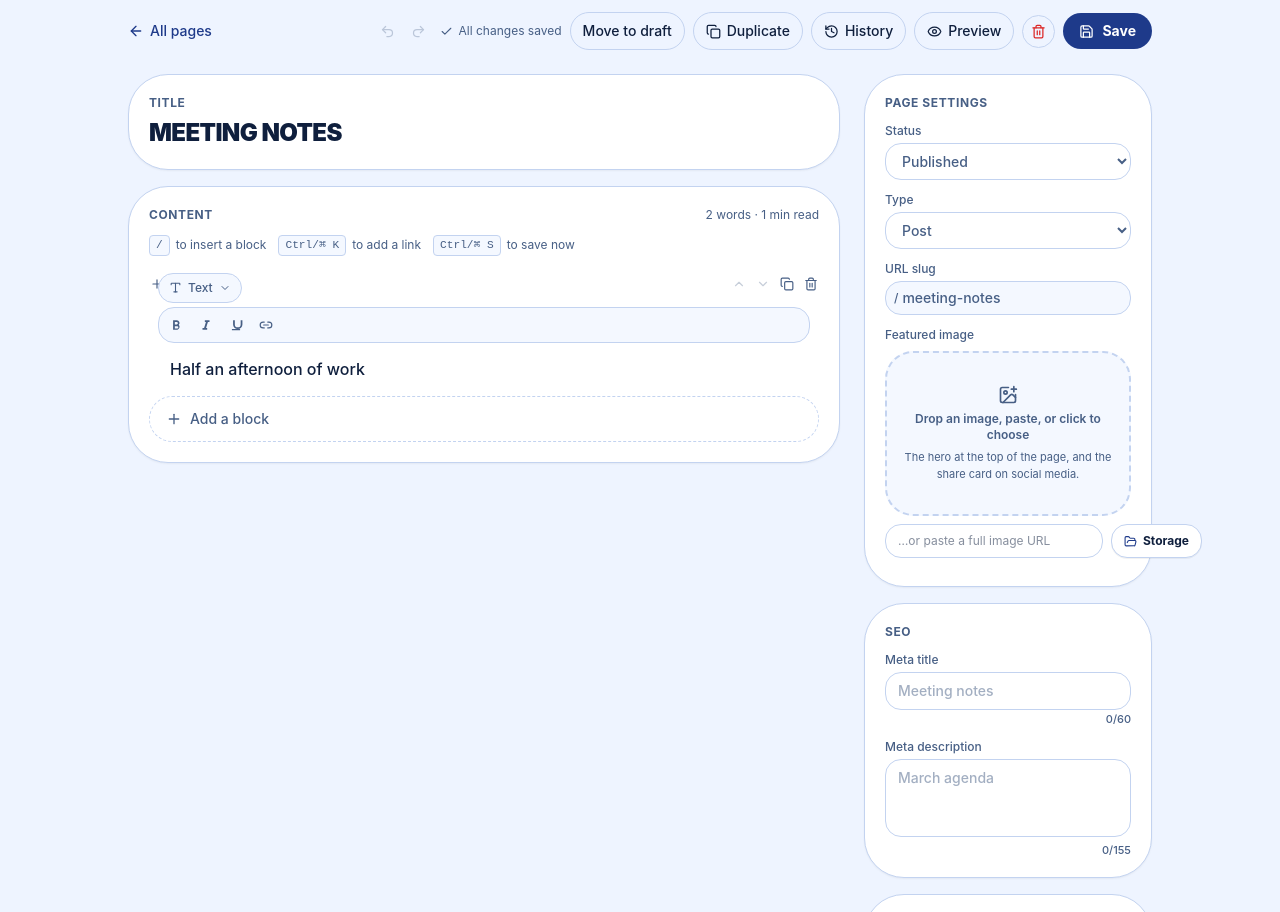
it: The editor cannot silently lose, unpublish, or misreport a page › says the change was not saved, and to copy the text before reloading
The width and height of the screenshot is (1280, 912).
Clear the field labelled "Half an afternoon of work": (267,369) [170, 359, 365, 379]
Wait 200 ms
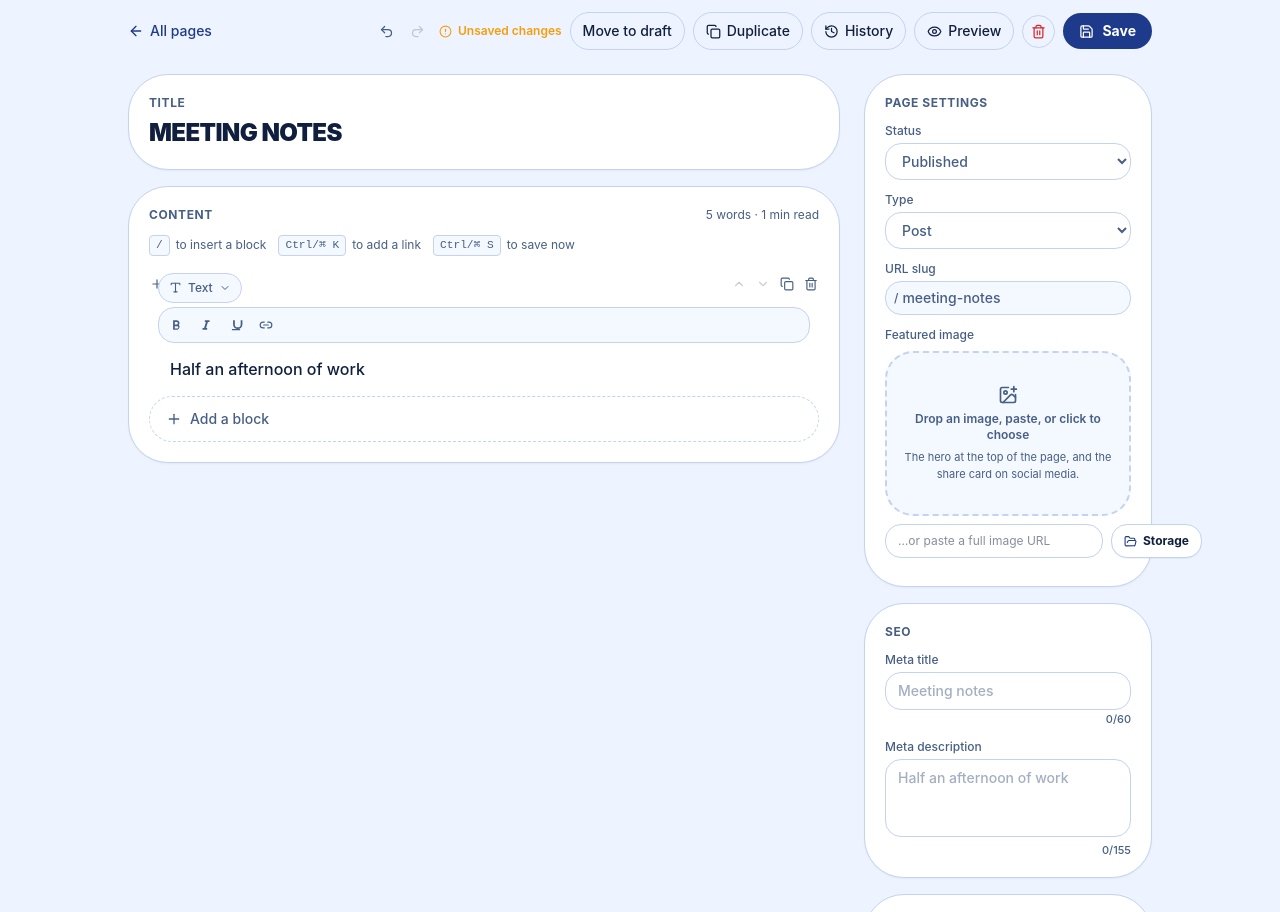
Click the button "Save": (1108,31) [1064, 13, 1152, 49]
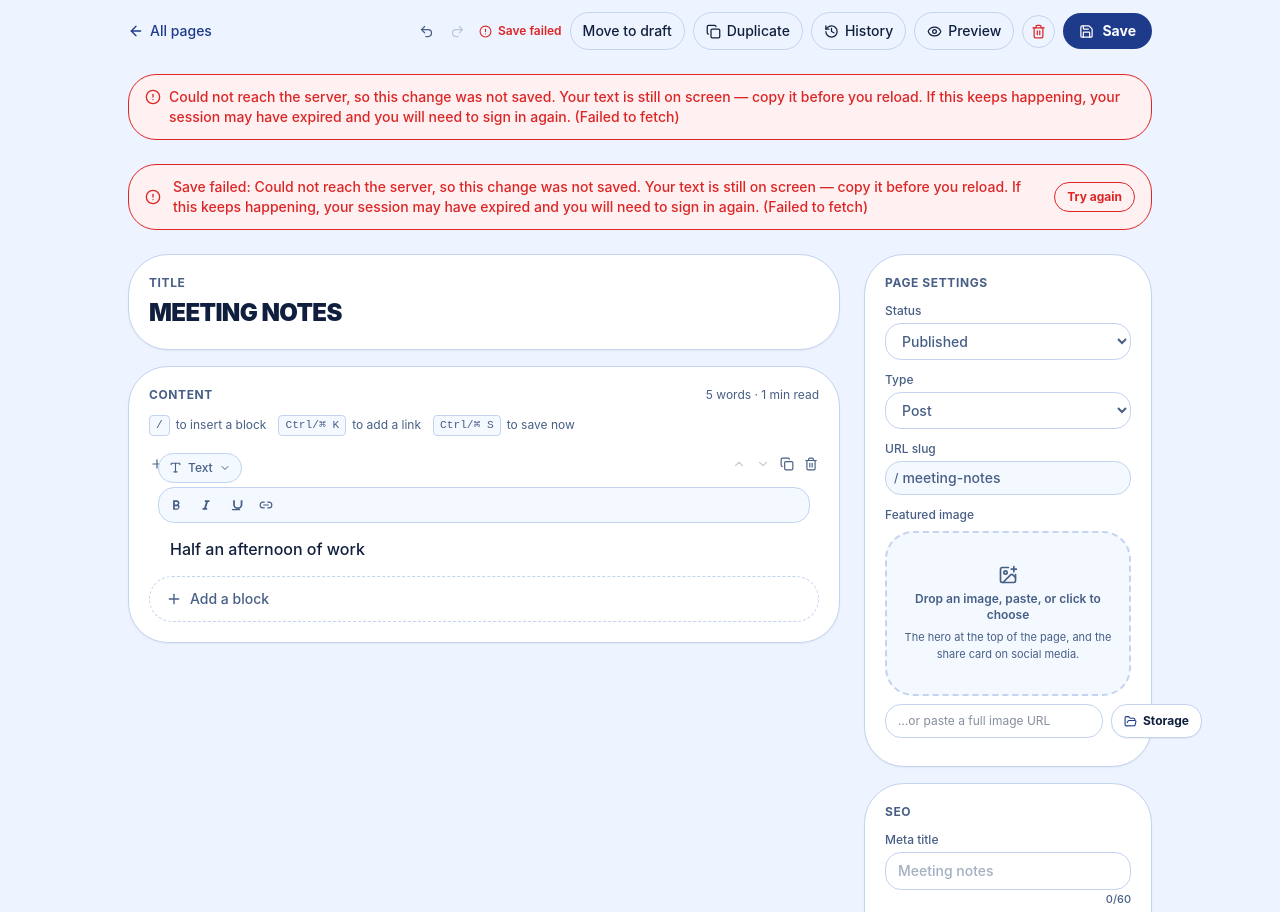
Expected: the text "copy it before" is shown, [169, 88, 1120, 125]
